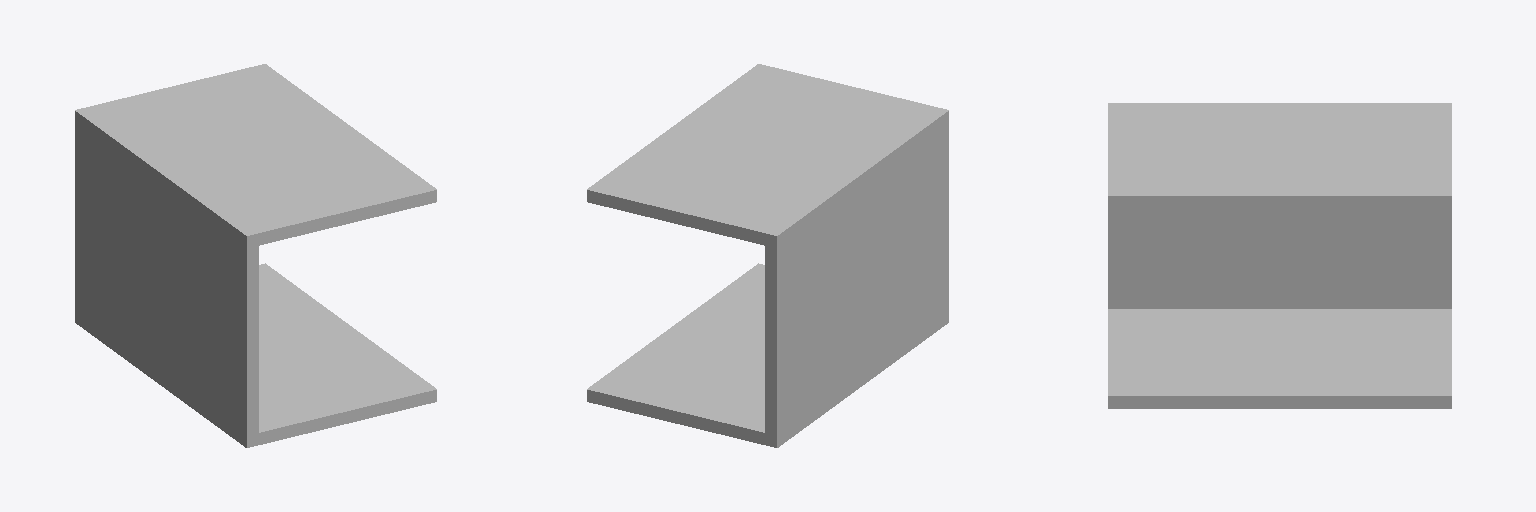
File: diningHall.obj
3 renders of one model, left to right at view 1: azimuth 30°, elevation 25°; view 2: azimuth 150°, elevation 25°; view 3: azimuth 270°, elevation 25°, orthographic.
Parts seen in each view (by area): view 1: default; view 2: default; view 3: default.
Part boxes in pixels (bbox=[...]): default: bbox=[75, 64, 436, 447]; default: bbox=[587, 64, 948, 447]; default: bbox=[1108, 103, 1451, 408].
Size of the model in its own units: 6.4 by 6.8 by 10.